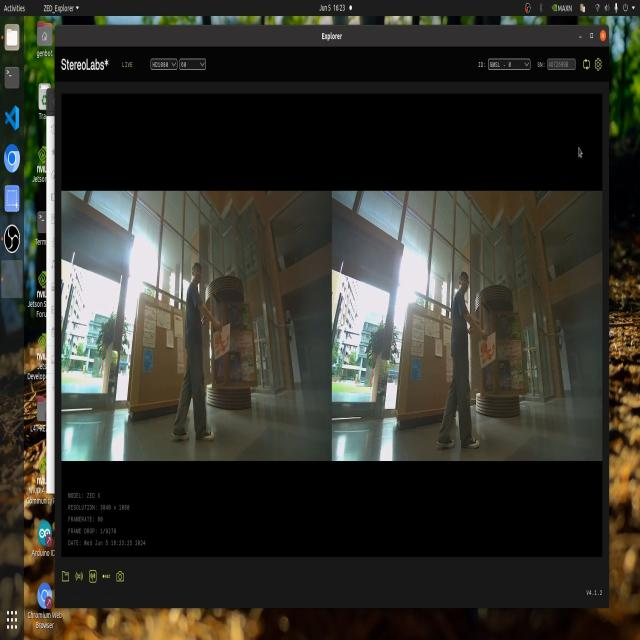red: (483, 332, 504, 380), (214, 324, 230, 356)
